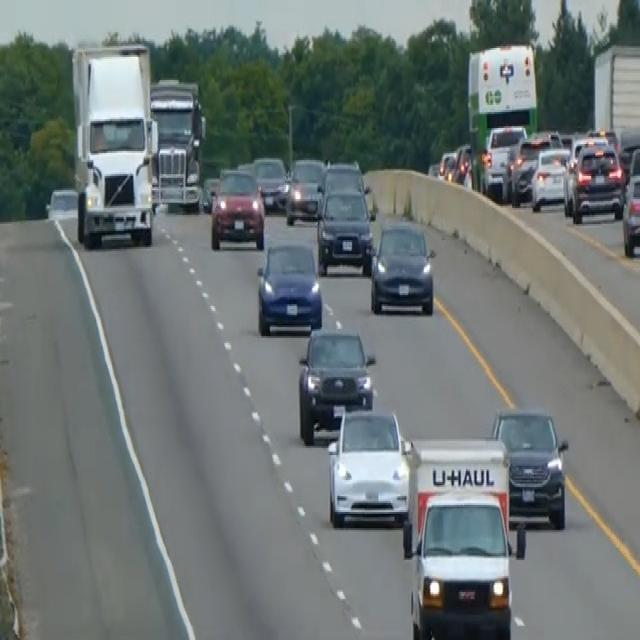bus: (464, 39, 539, 196)
car: (326, 404, 411, 528), (490, 404, 569, 530), (297, 323, 376, 442), (255, 238, 323, 336), (369, 217, 435, 315), (315, 183, 373, 276), (563, 139, 625, 224), (209, 165, 265, 251), (510, 128, 562, 206), (480, 123, 526, 199), (284, 155, 325, 224), (530, 146, 570, 212), (318, 158, 365, 208), (252, 153, 288, 211), (621, 169, 639, 256), (451, 142, 472, 185), (200, 174, 220, 212)
lorry: (69, 39, 159, 249), (149, 75, 206, 212)
truck: (401, 436, 526, 638)
